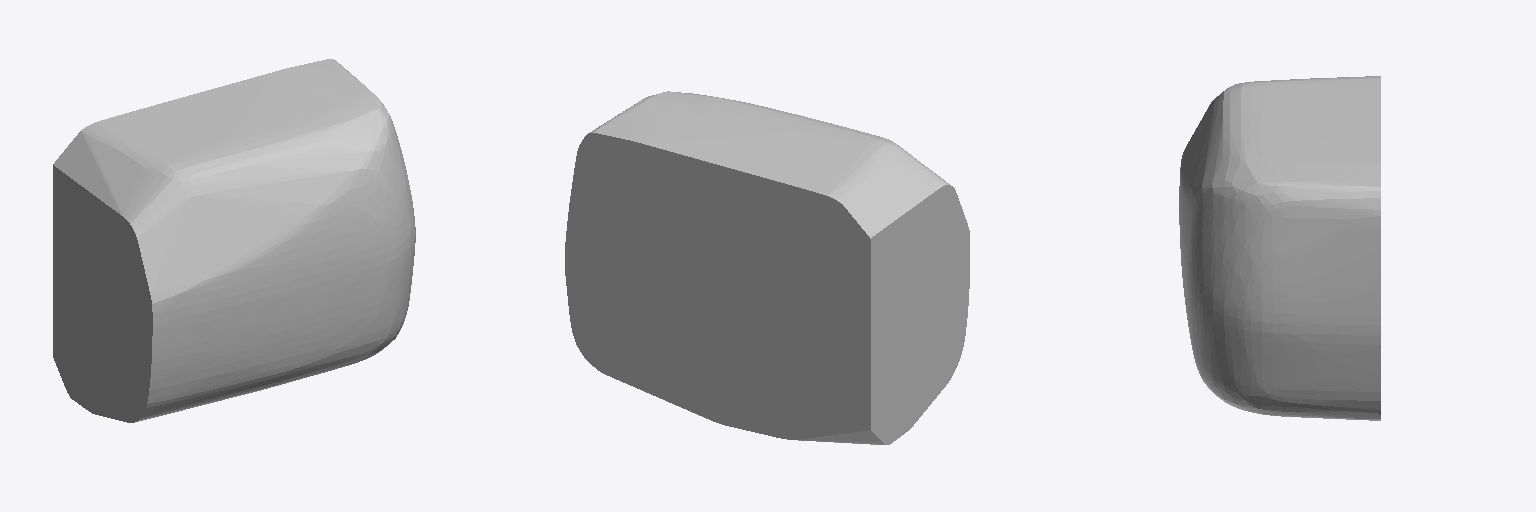
The model's file is Multimeter_collision_16.obj.
3 views of the same model, side by side, from view 1: azimuth 30°, elevation 25°; view 2: azimuth 150°, elevation 25°; view 3: azimuth 270°, elevation 25° (orthographic).
Bounding box in the file's own units: 45.81 × 37.48 × 26.15.